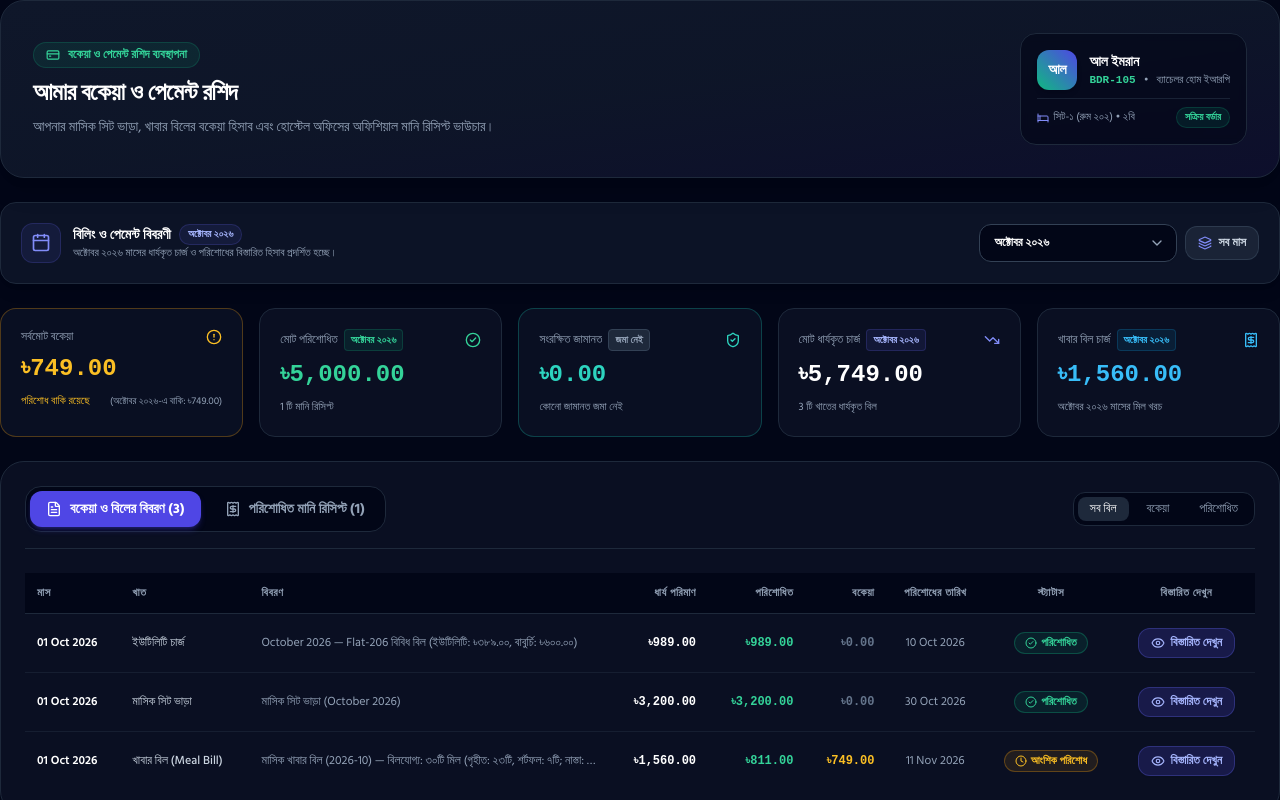
BoarderDuesPage.test.tsx - Boarder Portal Dues & Receipts › renders "বিস্তারিত দেখুন" column and opens detailed breakdown modal on click
# Click the first one (Utility charge: ৳৮৪৪)
Click the button "বিস্তারিত দেখুন" in the row of "ইউটিলিটি চার্জ": (1186,642) [1138,628,1235,658]
(page scrolled)
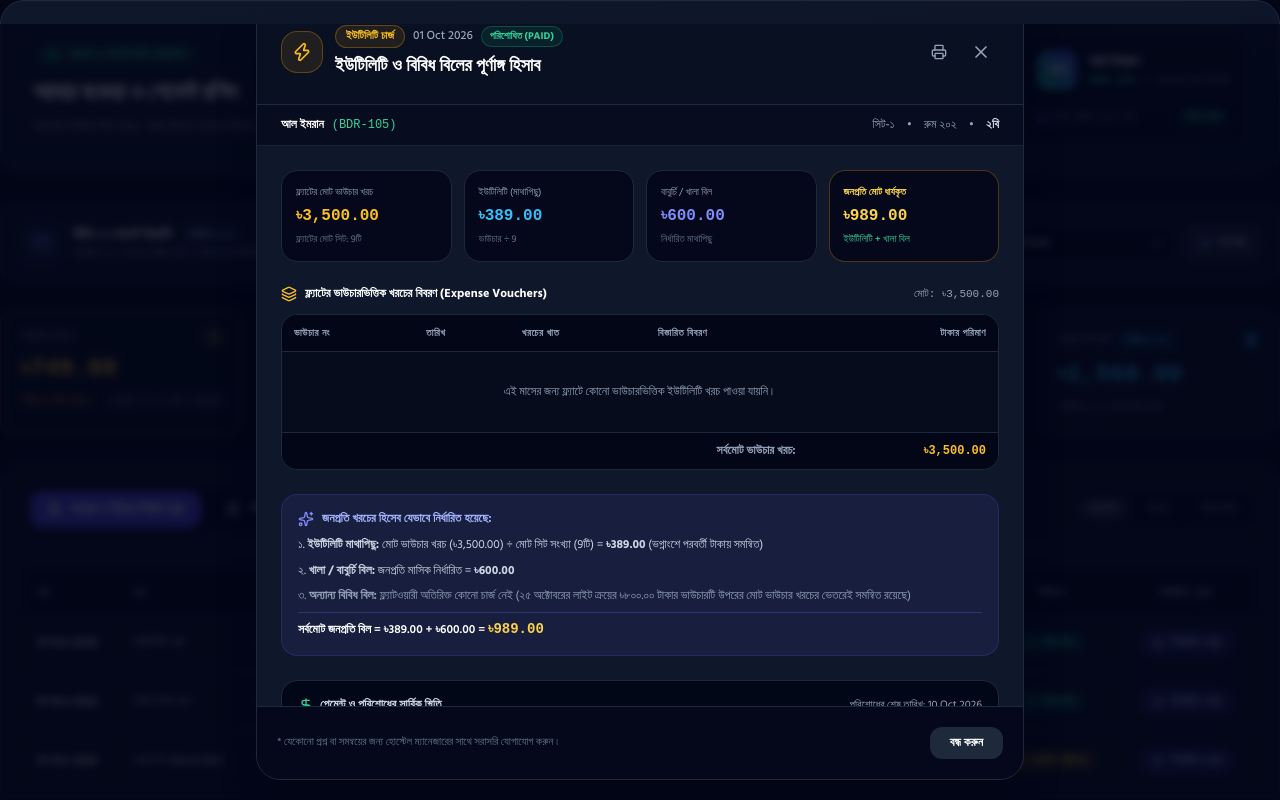
Now the heading "ইউটিলিটি ও বিবিধ বিলের পূর্ণাঙ্গ হিসাব" is shown, box [335,52,563,80]
Now the text "ফ্ল্যাটের ভাউচারভিত্তিক খরচের বিবরণ (Expense Vouchers)" is shown, box [305,286,547,302]
Now the text "জনপ্রতি খরচের হিসেব যেভাবে নির্ধারিত হয়েছে:" is shown, box [322,511,492,527]
# Close button should close modal
Click the button "বন্ধ করুন": (966,742) [930,726,1003,758]
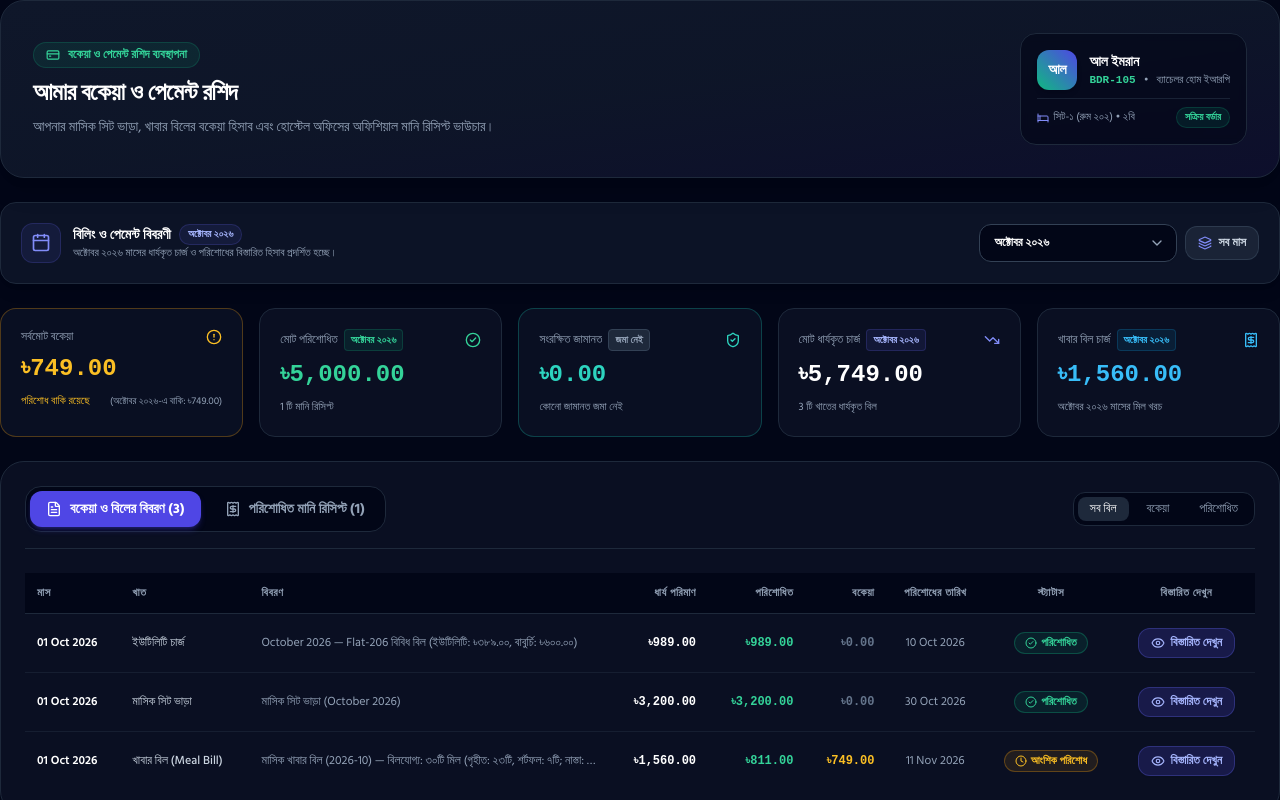
Now the heading "ইউটিলিটি ও বিবিধ বিলের পূর্ণাঙ্গ হিসাব" is gone
